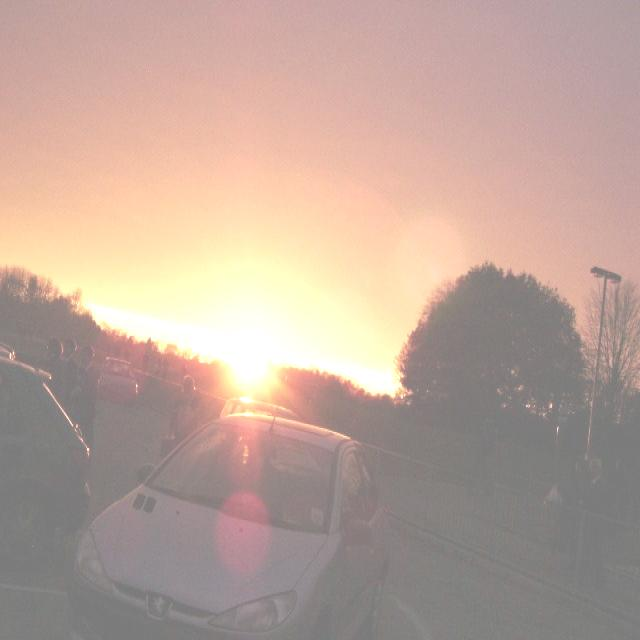Car: (66, 405, 394, 640)
